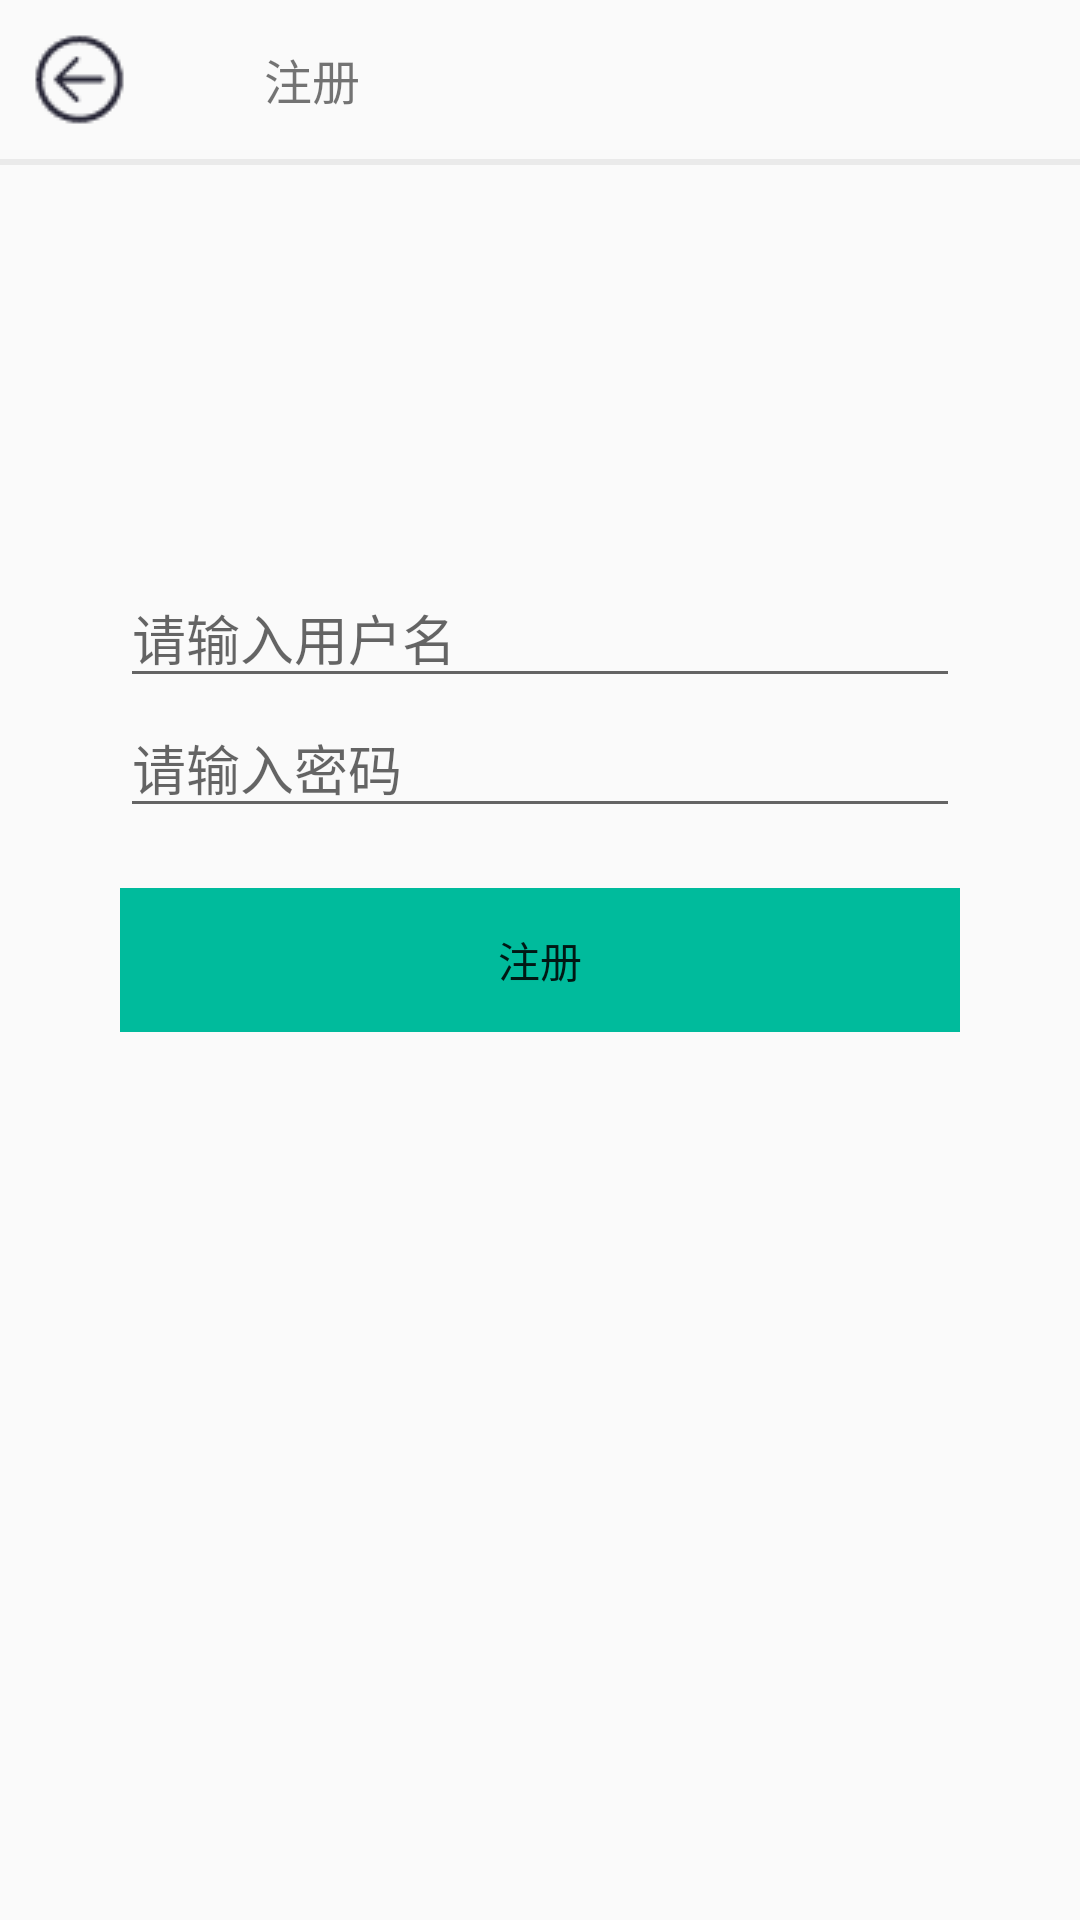

Locate icon controls on the screen. Image size 1080x1920, boxes as (x1, y1, x2, y2).
back: (35, 35, 124, 124)
